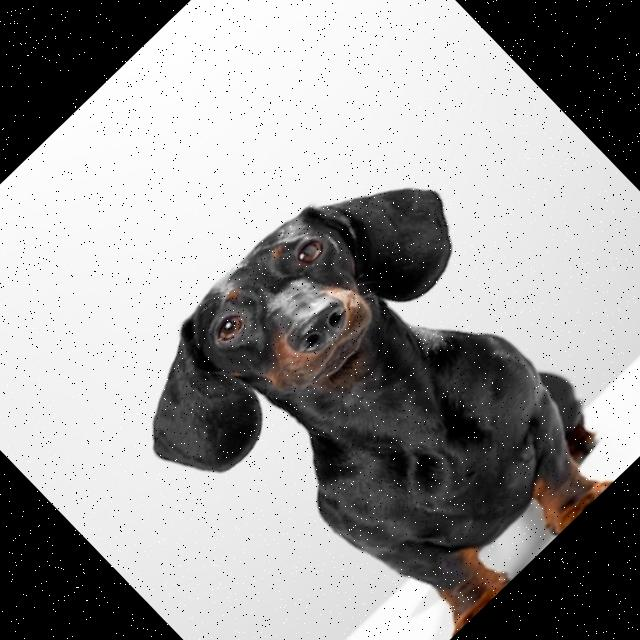Dog: (96, 123, 640, 640)
